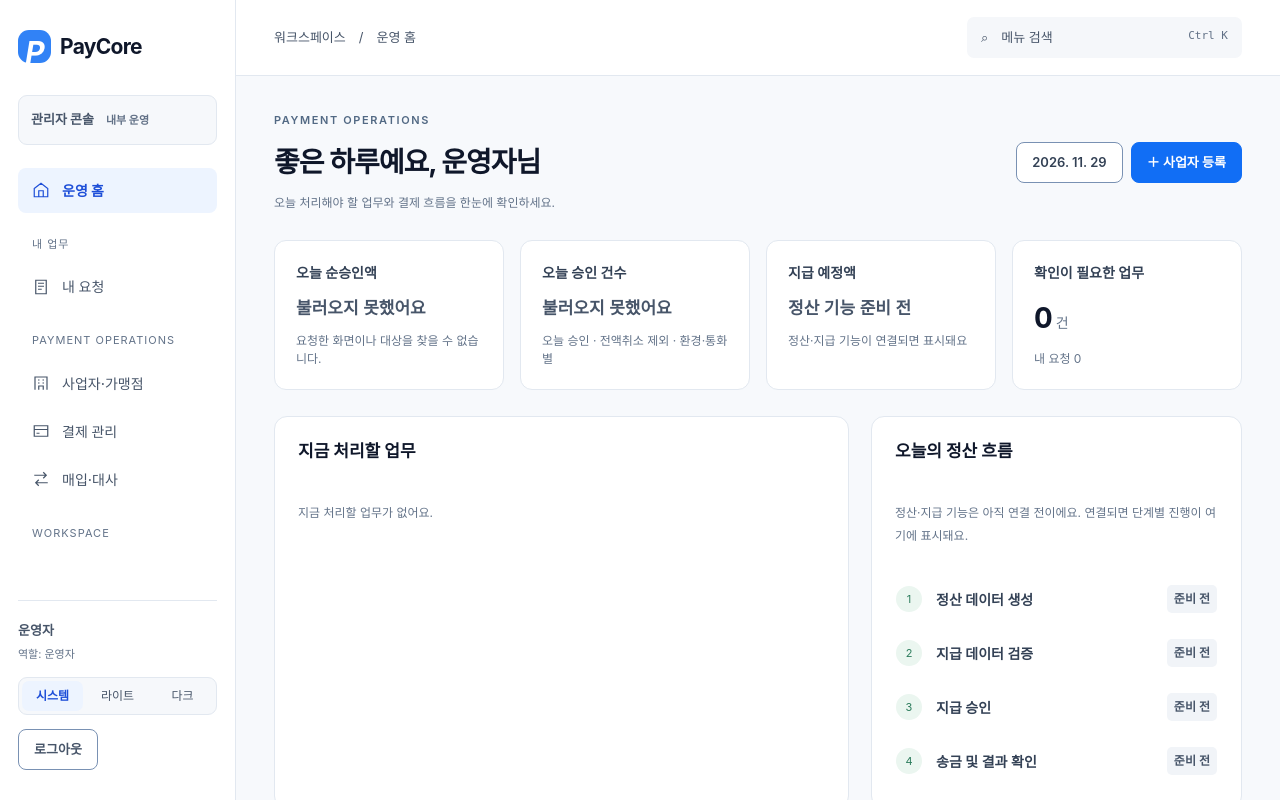
Test: ADMIN-UI-WORKSPACE-001: 사업자·가맹점 › 사업자 등록 in the reference layout › flush in the menu card: .mapnote(h2) → .cardnote(필수 안내) → form(번호 섹션 카드 h3 "n. 이름" · 폼 줄 · 저장 줄); buttons .btn/.btn.primary
Click the button "사업자·가맹점" at (118, 383), box [18,360,217,406]
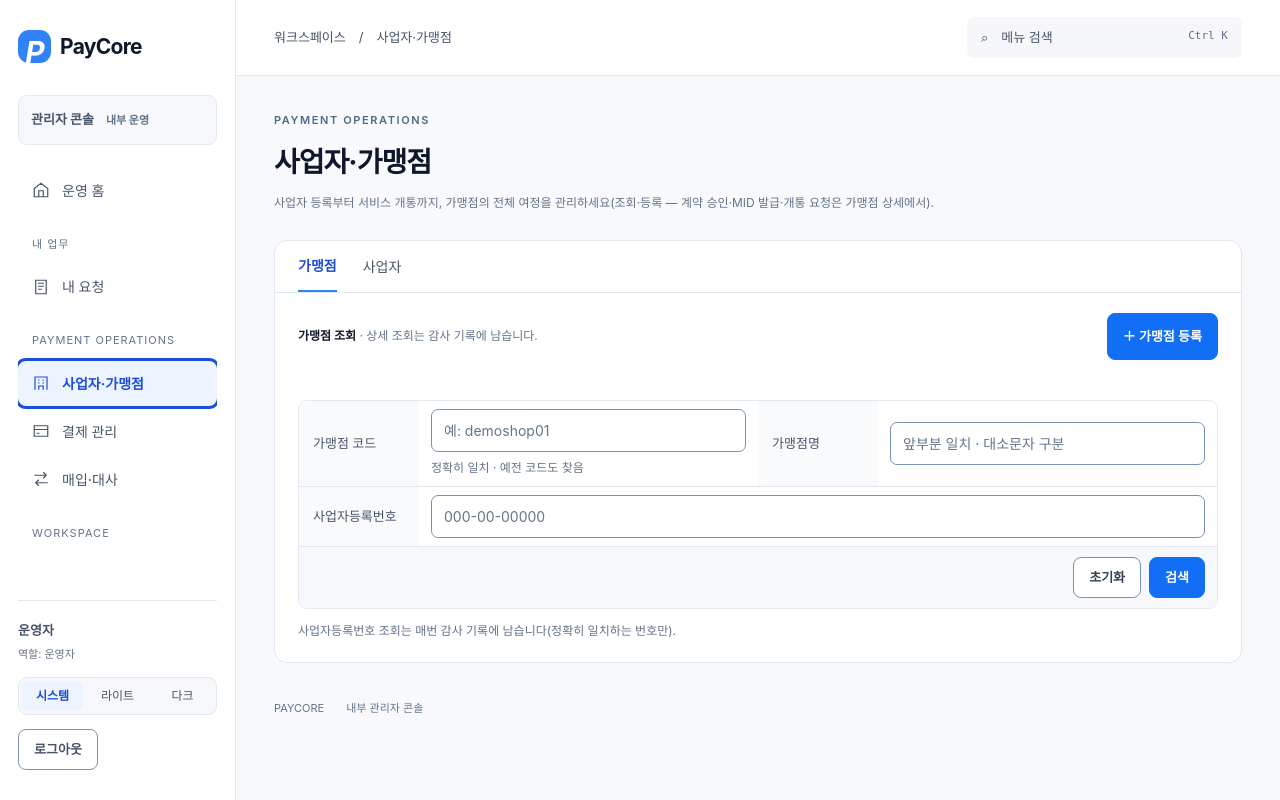
Click the tab "사업자" at (382, 266), box [363,241,401,292]
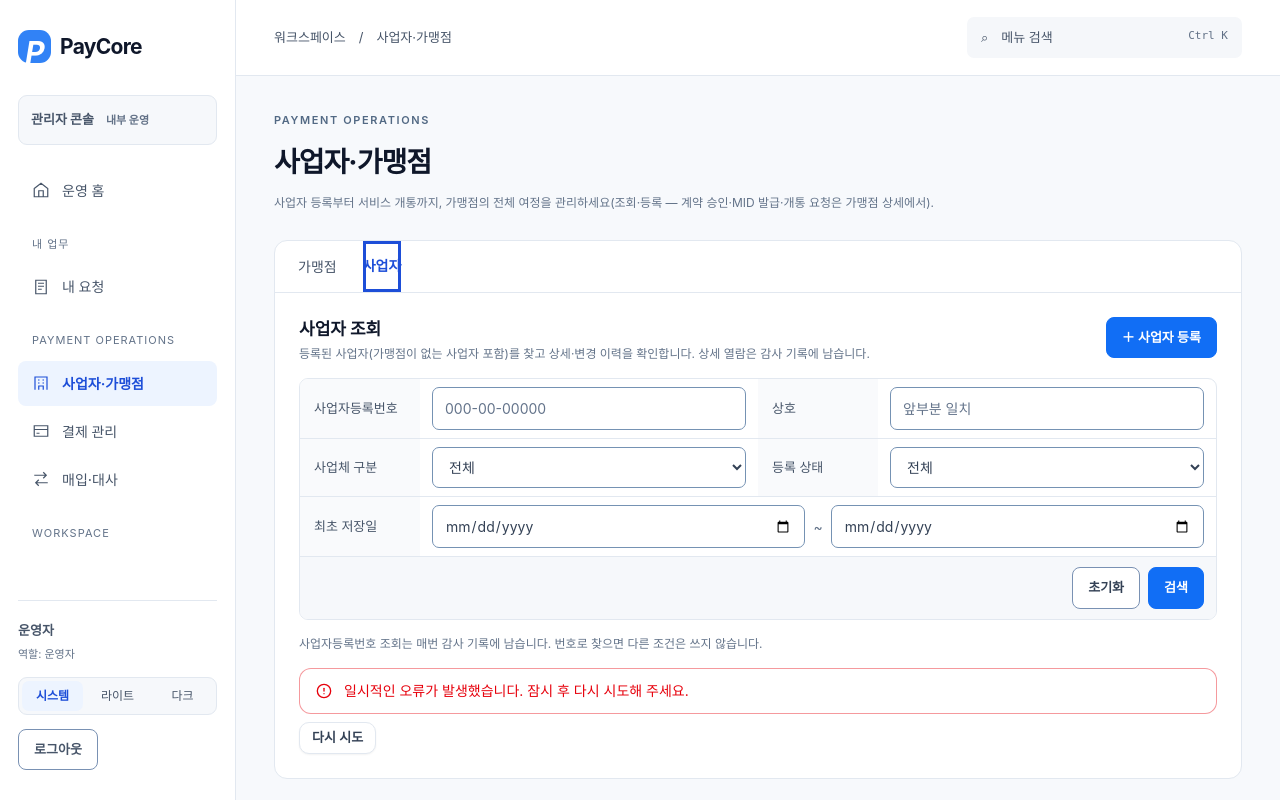
Click the button "＋ 사업자 등록" at (1161, 338), box [1106,317,1217,358]
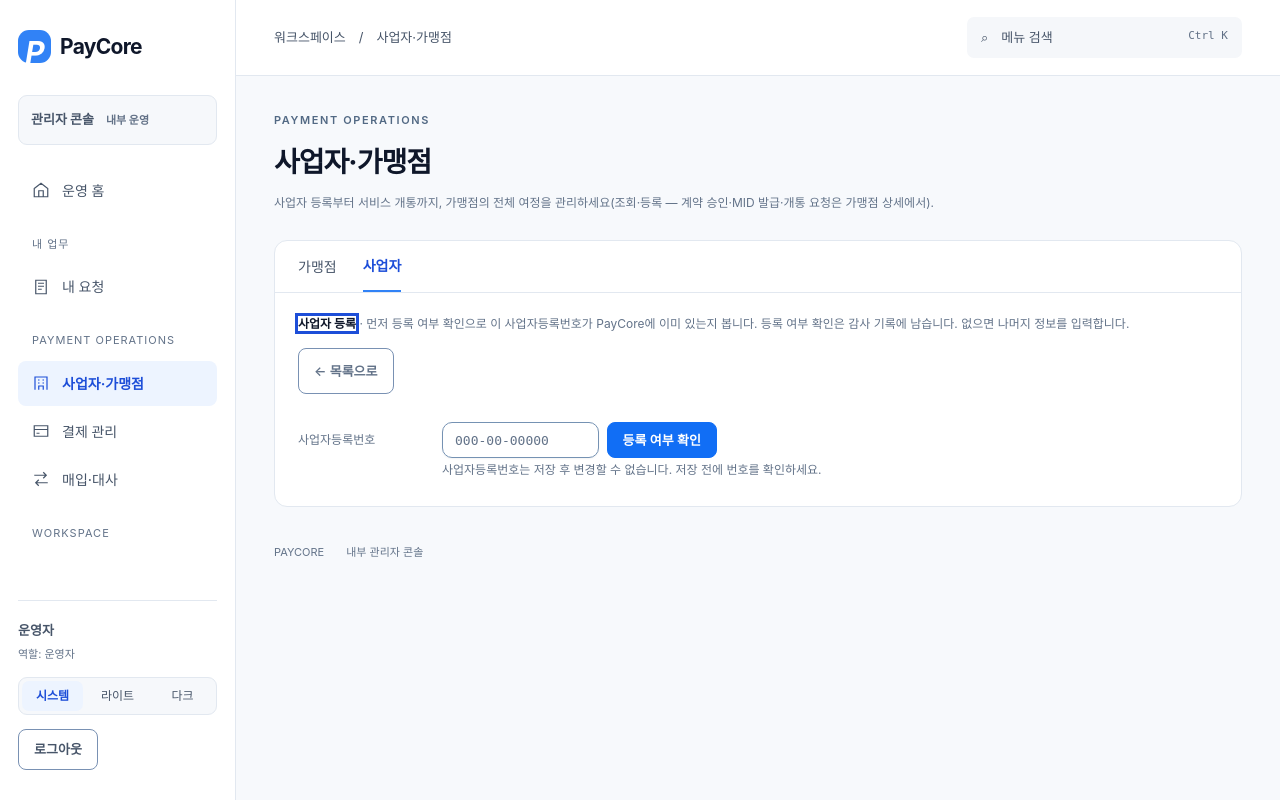
Click the field labelled "사업자등록번호" at (520, 440), box [442,422,598,458]
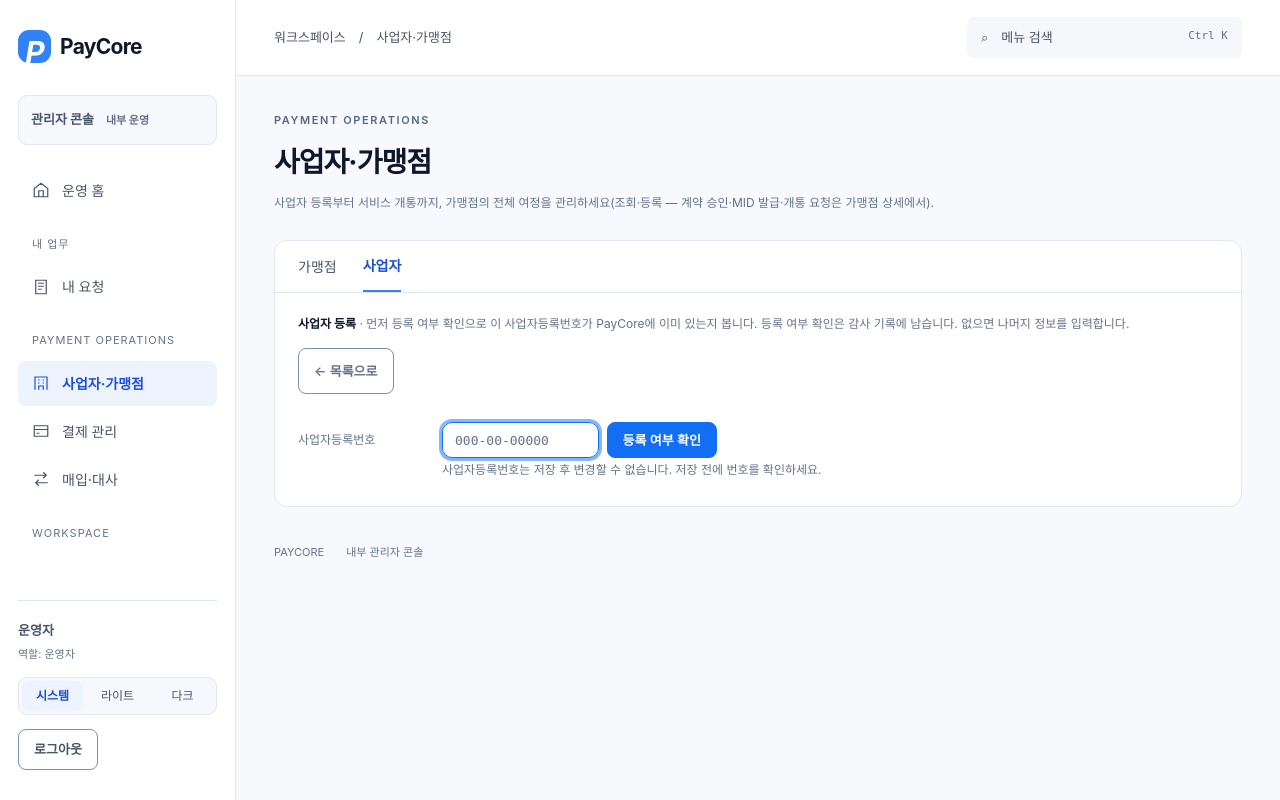
Type keys "7781234560"
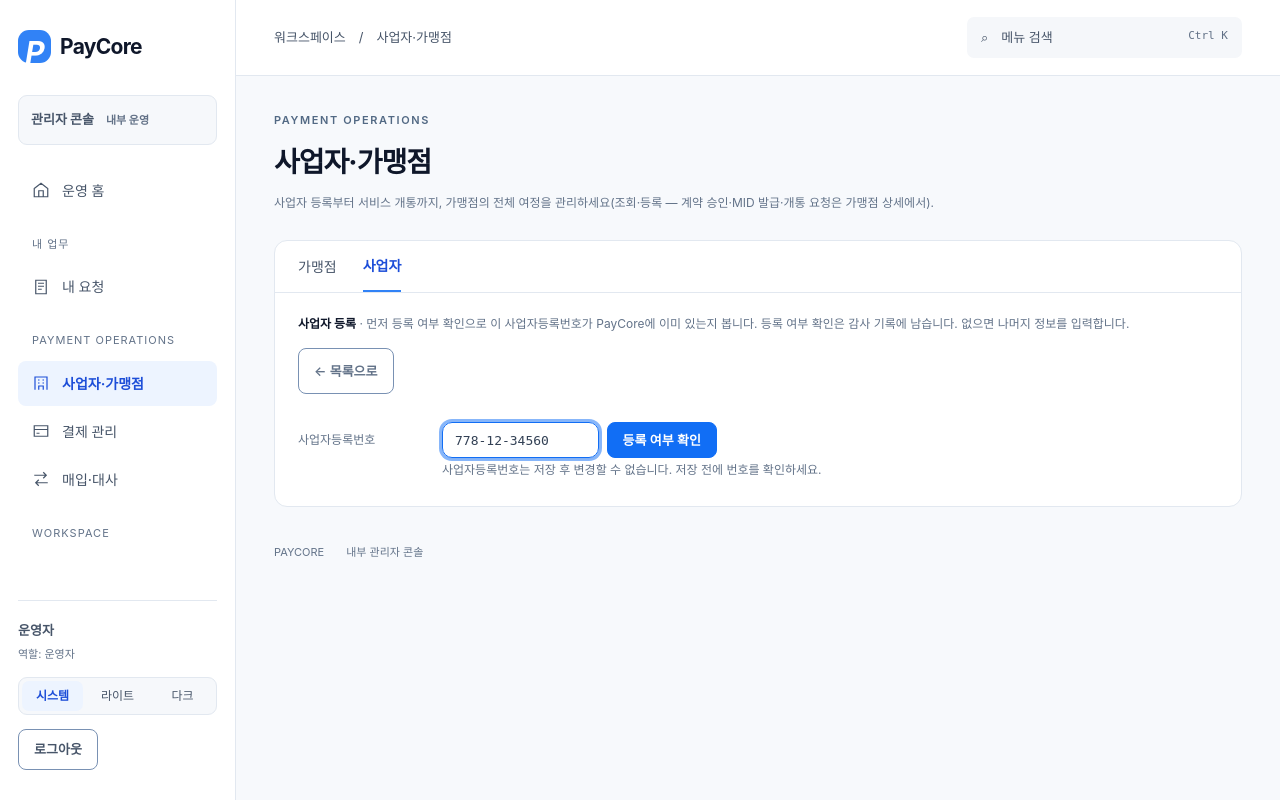
Click the button "등록 여부 확인" at (662, 440), box [606,422,717,458]
(page scrolled)
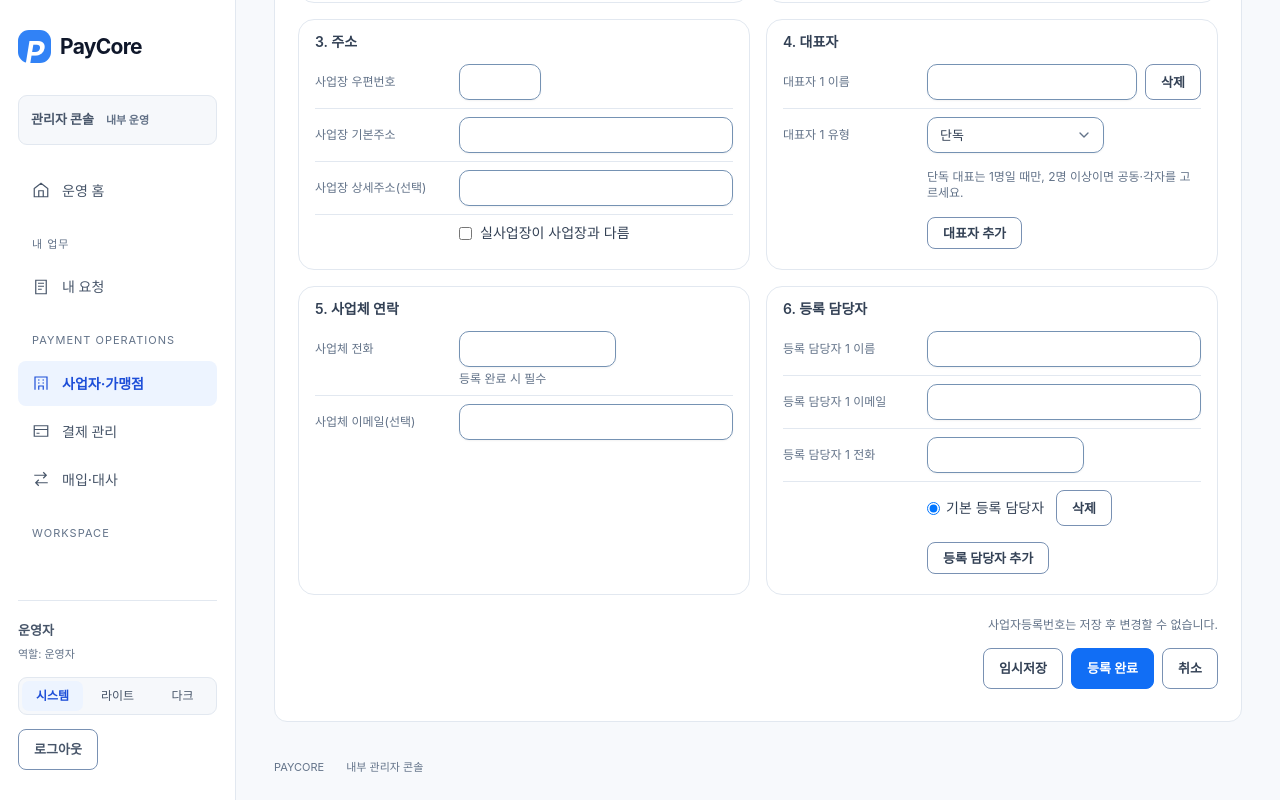
Now the text with class "subtle" reads "사업자등록번호는 저장 후 변경할 수 없습니다.", box [988,617,1218,632]
Now the buttons read "임시저장", "등록 완료", "취소", in this order, box [983,648,1063,689]; [1071,648,1154,689]; [1162,648,1218,689]
